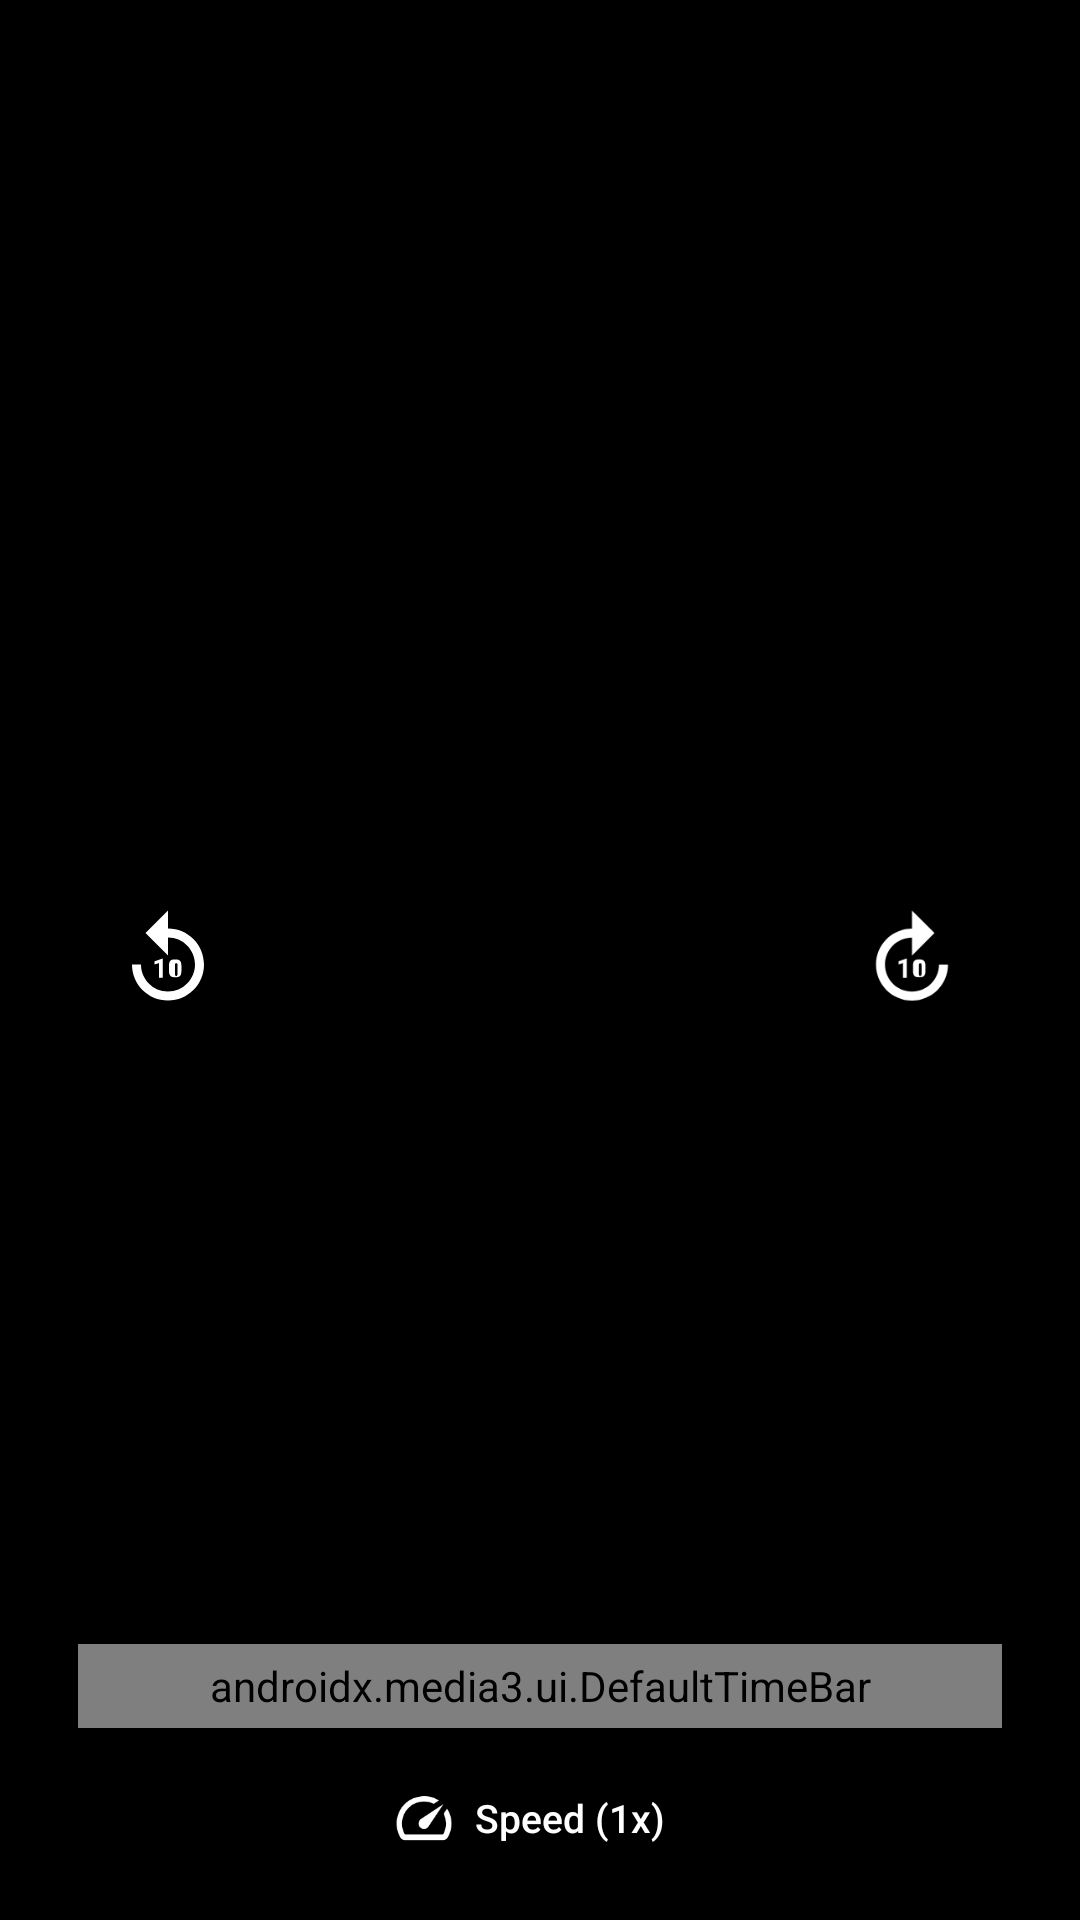

Screen size 1080x1920. Icon name, then its box in pixels as (x1, y1, x2, y2):
forward: (875, 911, 949, 1001)
replay: (132, 910, 204, 1001)
